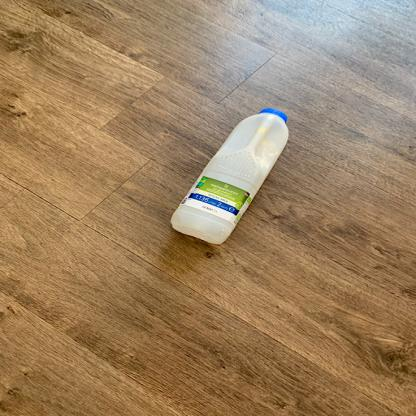trash: (170, 107, 292, 248)
